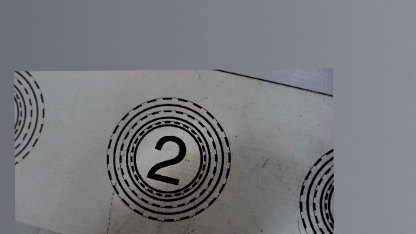2r: (100, 96, 233, 223)
